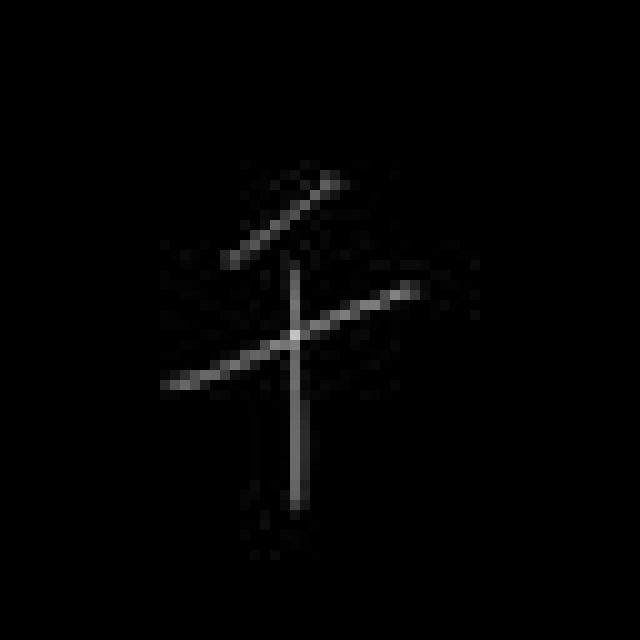1000 -a thousand-: (153, 171, 427, 504)
